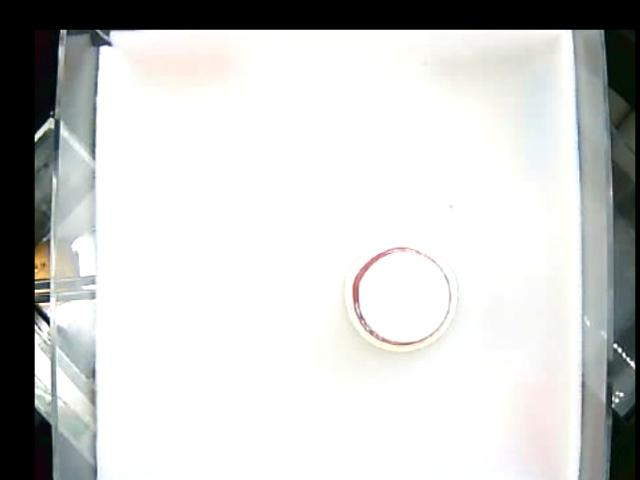Cup: (345, 234, 457, 348)
